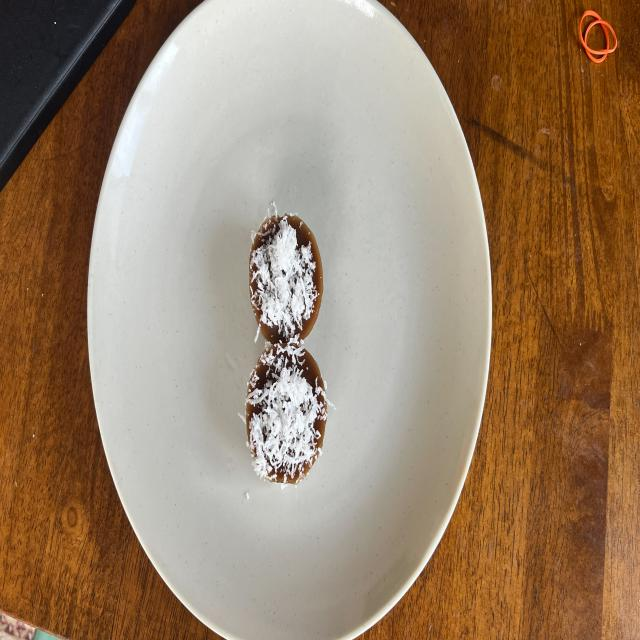Kuih lompang: (246, 342, 328, 482), (250, 216, 322, 342)
